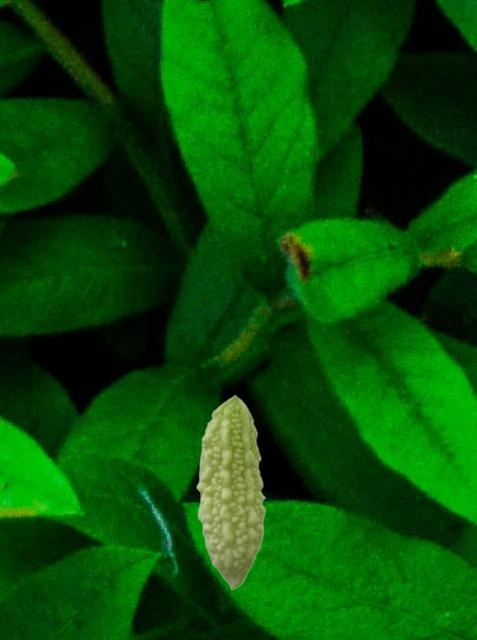ampalaya: (195, 394, 266, 590)
